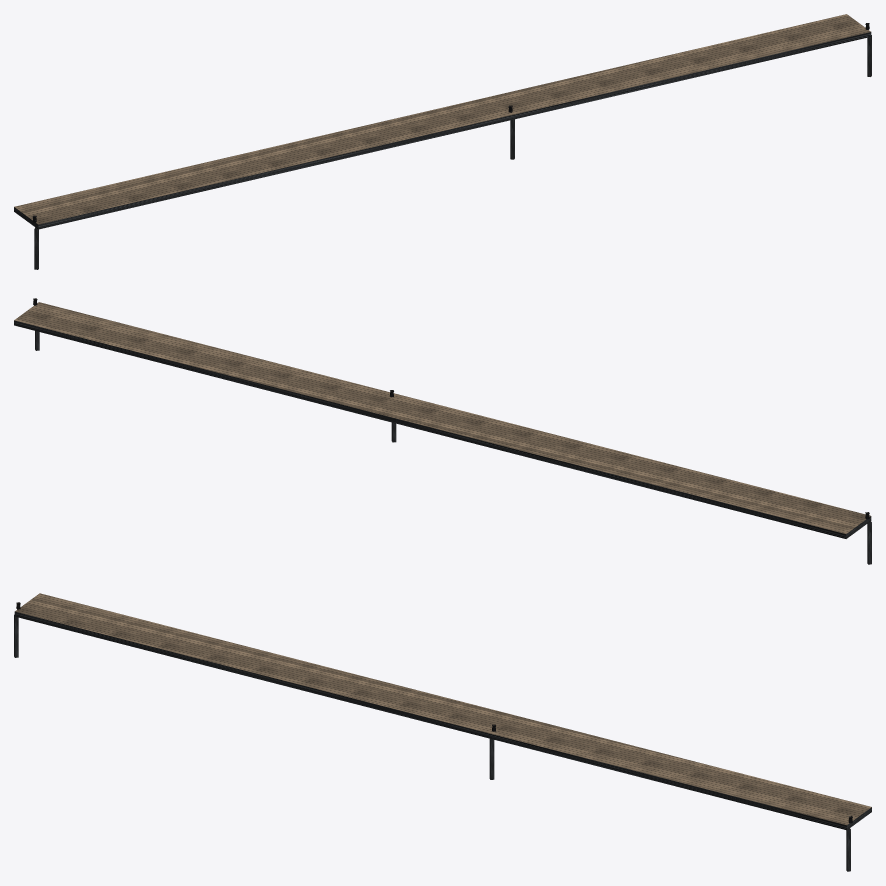
The model's file is SM_Molo_Pontiletto_Nord_LOD2.fbx.
3 renders of one model, top to bottom at view 1: azimuth 30°, elevation 25°; view 2: azimuth 150°, elevation 25°; view 3: azimuth 330°, elevation 25°, orthographic. The views are drawn at different scales.
Visible parts, largest first — view 1: SM_Molo_Pontiletto_Nord_LOD2; view 2: SM_Molo_Pontiletto_Nord_LOD2; view 3: SM_Molo_Pontiletto_Nord_LOD2.
Part boxes in pixels (x1=…): SM_Molo_Pontiletto_Nord_LOD2: x1=14, y1=14, x2=871, y2=269; SM_Molo_Pontiletto_Nord_LOD2: x1=14, y1=298, x2=871, y2=564; SM_Molo_Pontiletto_Nord_LOD2: x1=14, y1=593, x2=871, y2=871.
Bounding box in the file's own units: 3520 × 259 × 209.
Materials: 2 (2 with a texture image).
